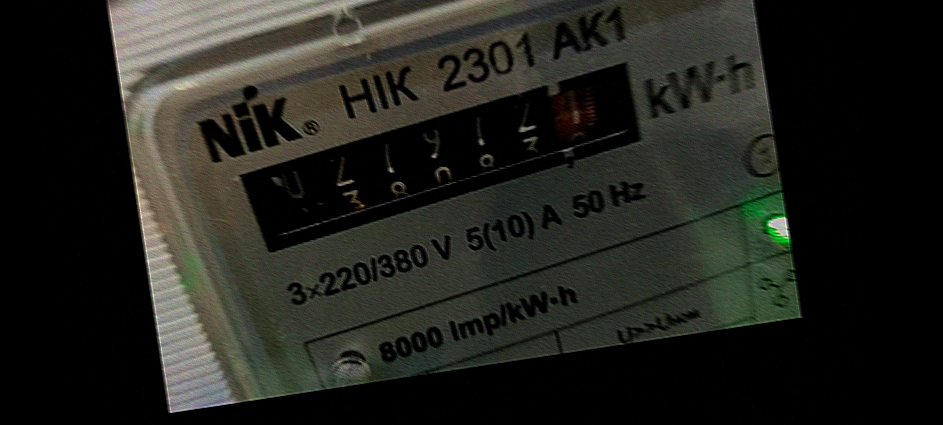0: (277, 161, 310, 201)
1: (561, 81, 590, 127)
2: (324, 144, 359, 187), (509, 92, 542, 133)
7: (463, 105, 495, 149), (373, 135, 402, 175)
9: (419, 120, 450, 159)
screen: (215, 45, 685, 265)
